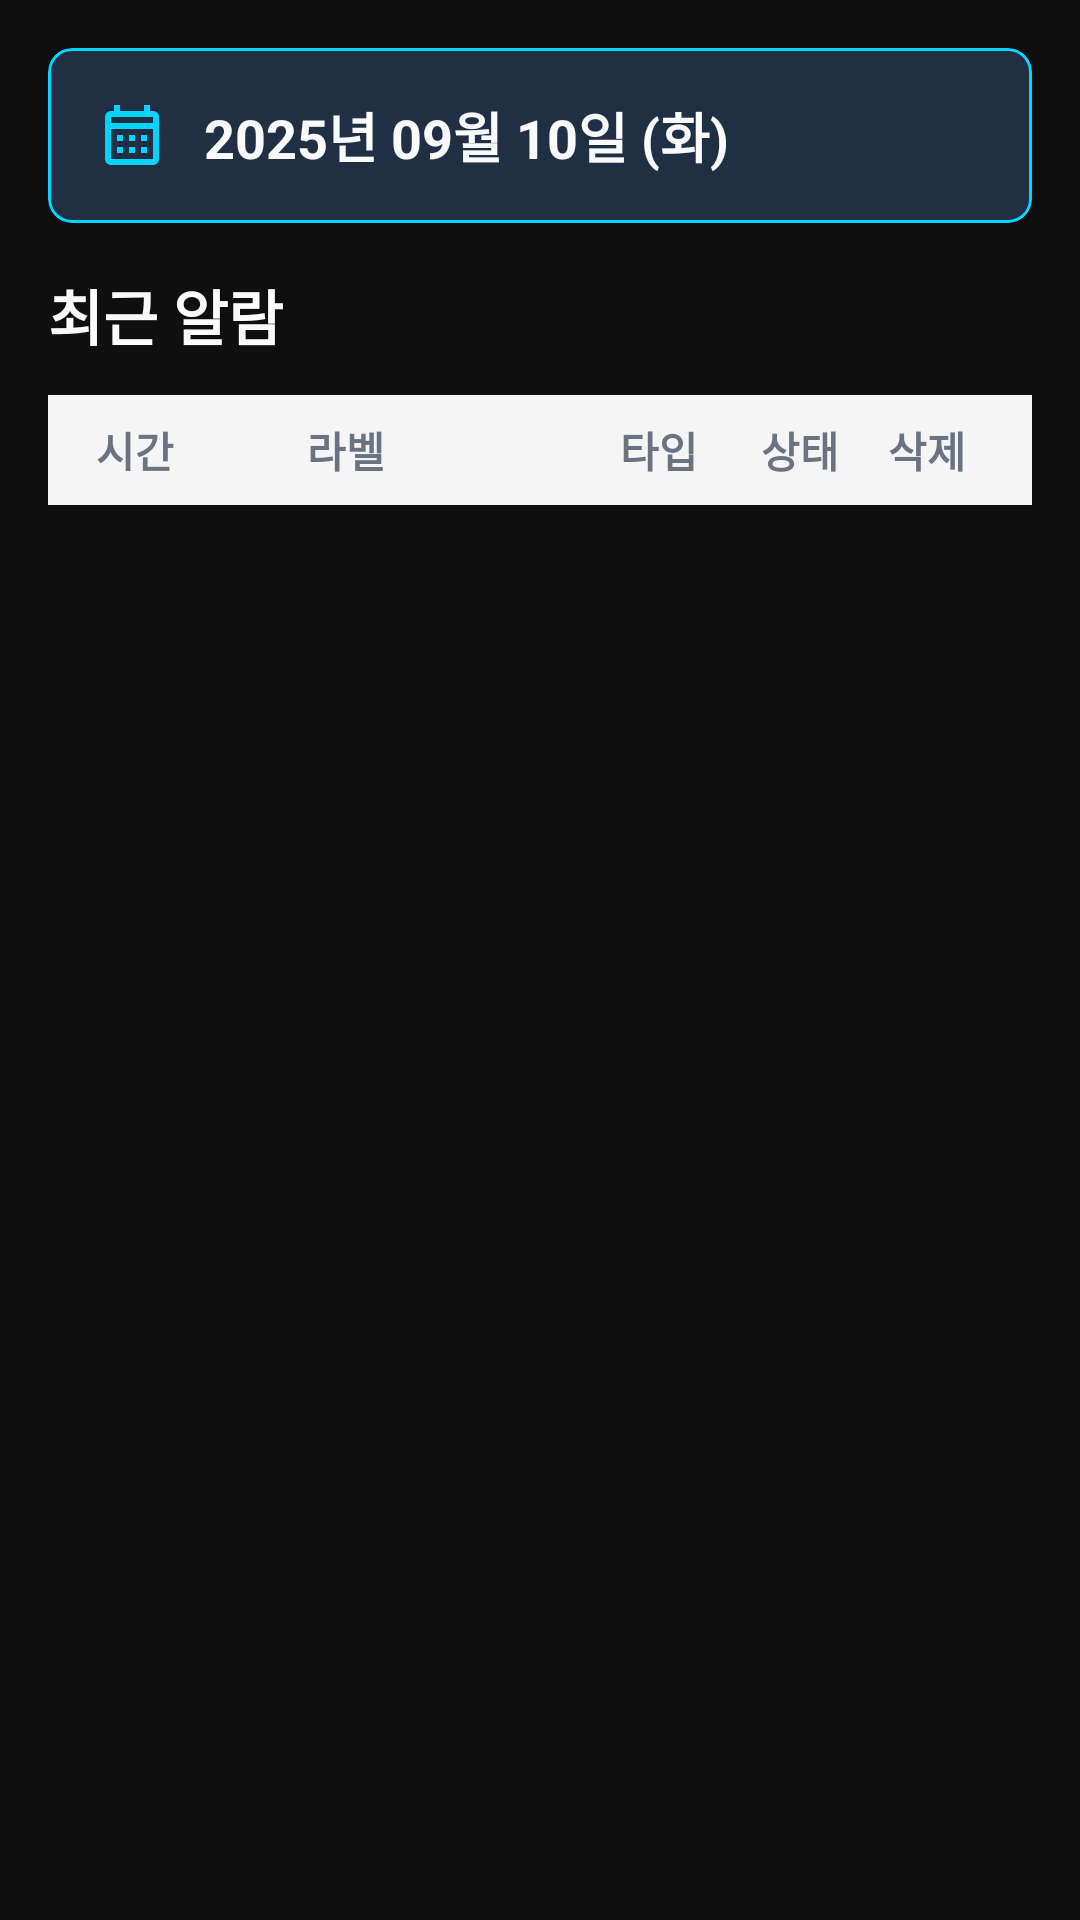

Named icons in this screenshot (1080w x 1920h) and their centers, (x,y):
calendar: (132,135)
